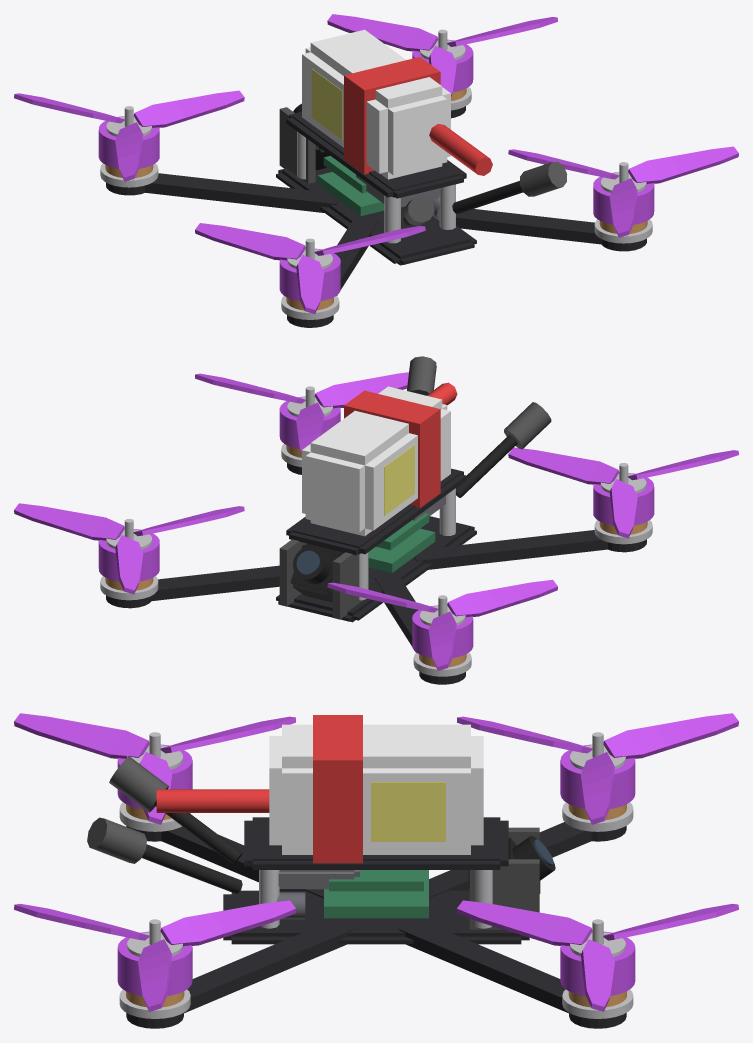
File: racer3.glb
3 views of the same model, one above another, from view 1: azimuth 30°, elevation 25°; view 2: azimuth 150°, elevation 25°; view 3: azimuth 270°, elevation 25° (orthographic). The views are drawn at different scales.
Visible parts, largest first — view 1: body, prop_FL, prop_RL, prop_RR, prop_FR, cam_mount; view 2: body, prop_FR, prop_FL, prop_RL, prop_RR, cam_mount, fpv_cam; view 3: body, prop_RR, prop_FR, prop_FL, prop_RL, cam_mount, fpv_cam.
Boxes of the visible parts, bbox=[...] form: body: bbox=[98, 29, 654, 327]; prop_FL: bbox=[14, 90, 244, 181]; prop_RL: bbox=[195, 223, 425, 313]; prop_RR: bbox=[508, 146, 738, 237]; prop_FR: bbox=[327, 14, 557, 96]; cam_mount: bbox=[279, 107, 315, 183]; body: bbox=[98, 356, 654, 684]; prop_FR: bbox=[14, 503, 244, 594]; prop_FL: bbox=[327, 579, 557, 670]; prop_RL: bbox=[508, 447, 738, 538]; prop_RR: bbox=[195, 372, 408, 453]; cam_mount: bbox=[279, 539, 363, 619]; fpv_cam: bbox=[290, 543, 344, 602]; body: bbox=[87, 715, 635, 1028]; prop_RR: bbox=[14, 900, 295, 1011]; prop_FR: bbox=[457, 900, 738, 1011]; prop_FL: bbox=[457, 713, 738, 824]; prop_RL: bbox=[14, 713, 295, 824]; cam_mount: bbox=[469, 827, 539, 929]; fpv_cam: bbox=[468, 836, 555, 893].
Size of the model in its own units: 0.1645 by 0.0513 by 0.1735.
